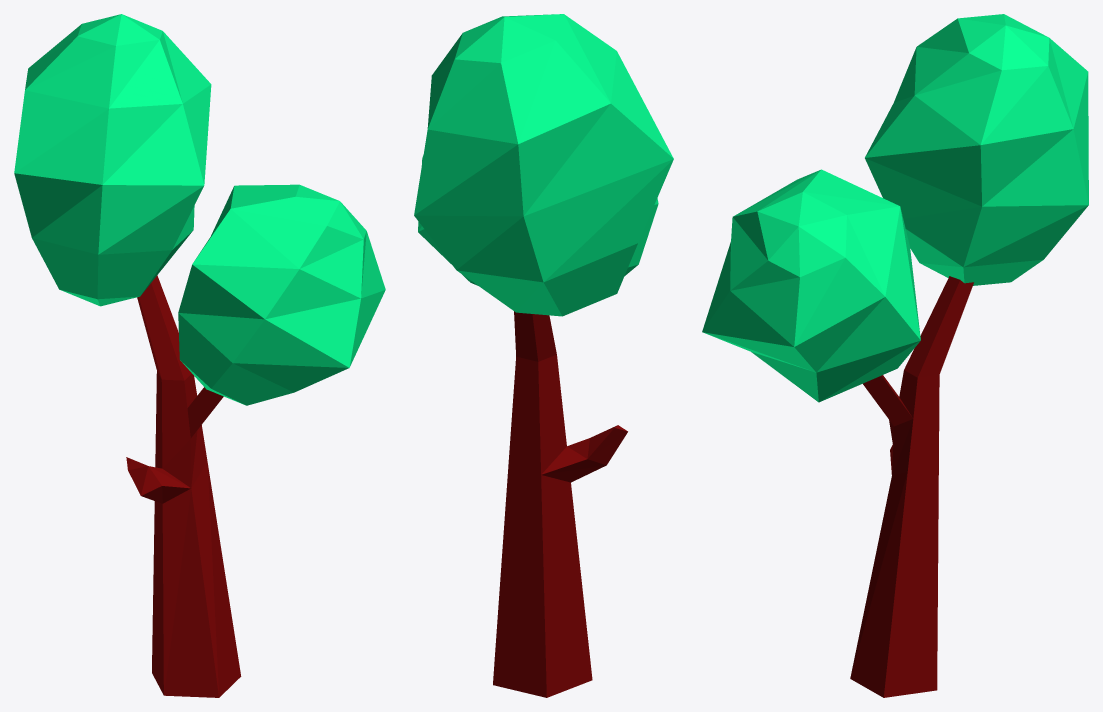
Rendered from Tree1.fbx.
3 views of the same model, side by side, from view 1: azimuth 30°, elevation 25°; view 2: azimuth 150°, elevation 25°; view 3: azimuth 270°, elevation 25° (orthographic). The views are drawn at different scales.
Parts seen in each view (by area): view 1: pSphere6; view 2: pSphere6; view 3: pSphere6.
Boxes of the visible parts, box(x1,y1,x2,y2) form: pSphere6: box(14, 14, 385, 697); pSphere6: box(414, 14, 673, 697); pSphere6: box(702, 14, 1088, 697).
Size of the model in its own units: 3.1 by 6.49 by 3.54.
